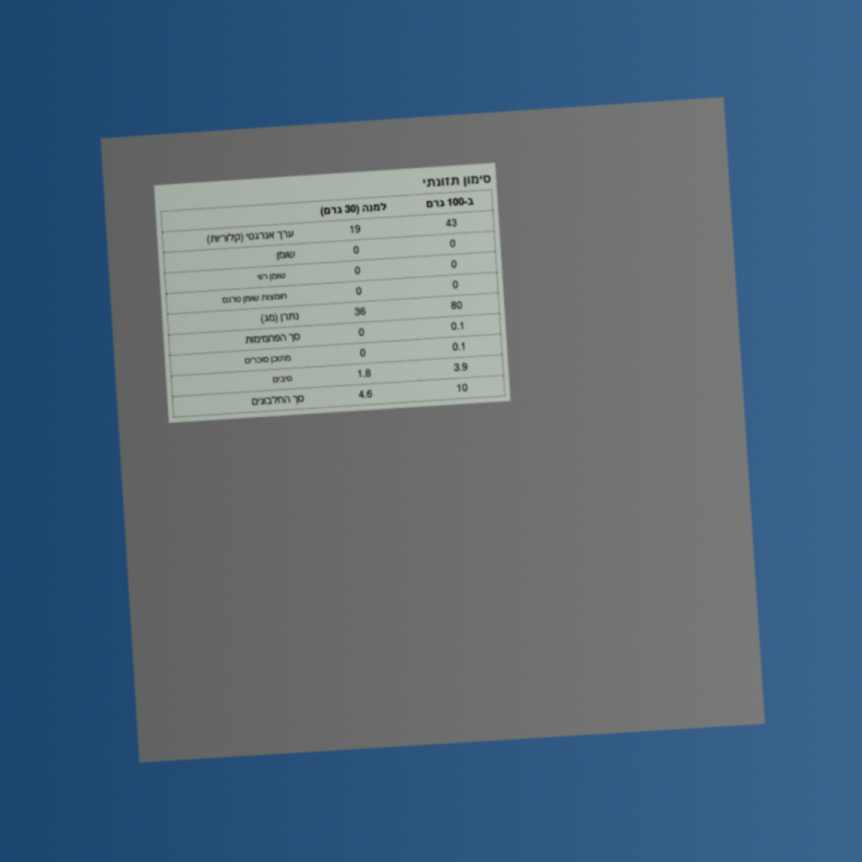carbs: (449, 320, 466, 333)
energy: (444, 217, 458, 230)
fat: (448, 237, 457, 250)
protein: (455, 382, 469, 395)
